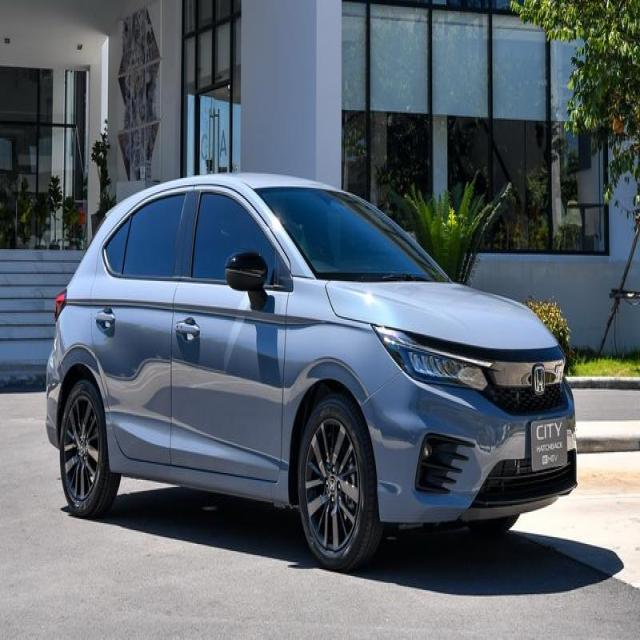Hatchback: (46, 174, 578, 576)
